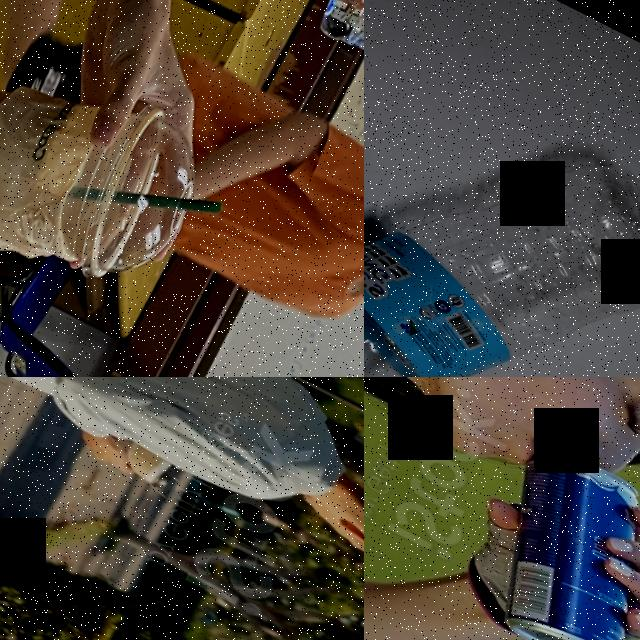bottle: (364, 32, 640, 377), (313, 0, 364, 97)
can: (439, 428, 640, 640)
cup: (0, 18, 225, 309), (108, 433, 184, 494)
